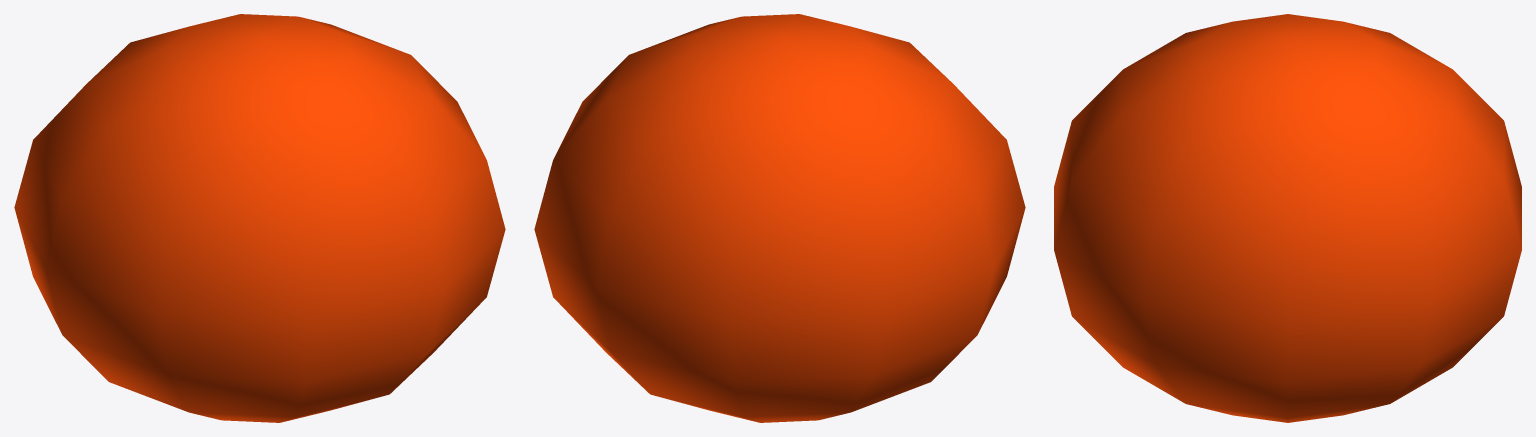
Rendered from cindrel_stage2.obj.
3 renders of one model, left to right at view 1: azimuth 30°, elevation 25°; view 2: azimuth 150°, elevation 25°; view 3: azimuth 270°, elevation 25°, orthographic.
Size of the model in its own units: 2 by 1.6 by 1.9.
